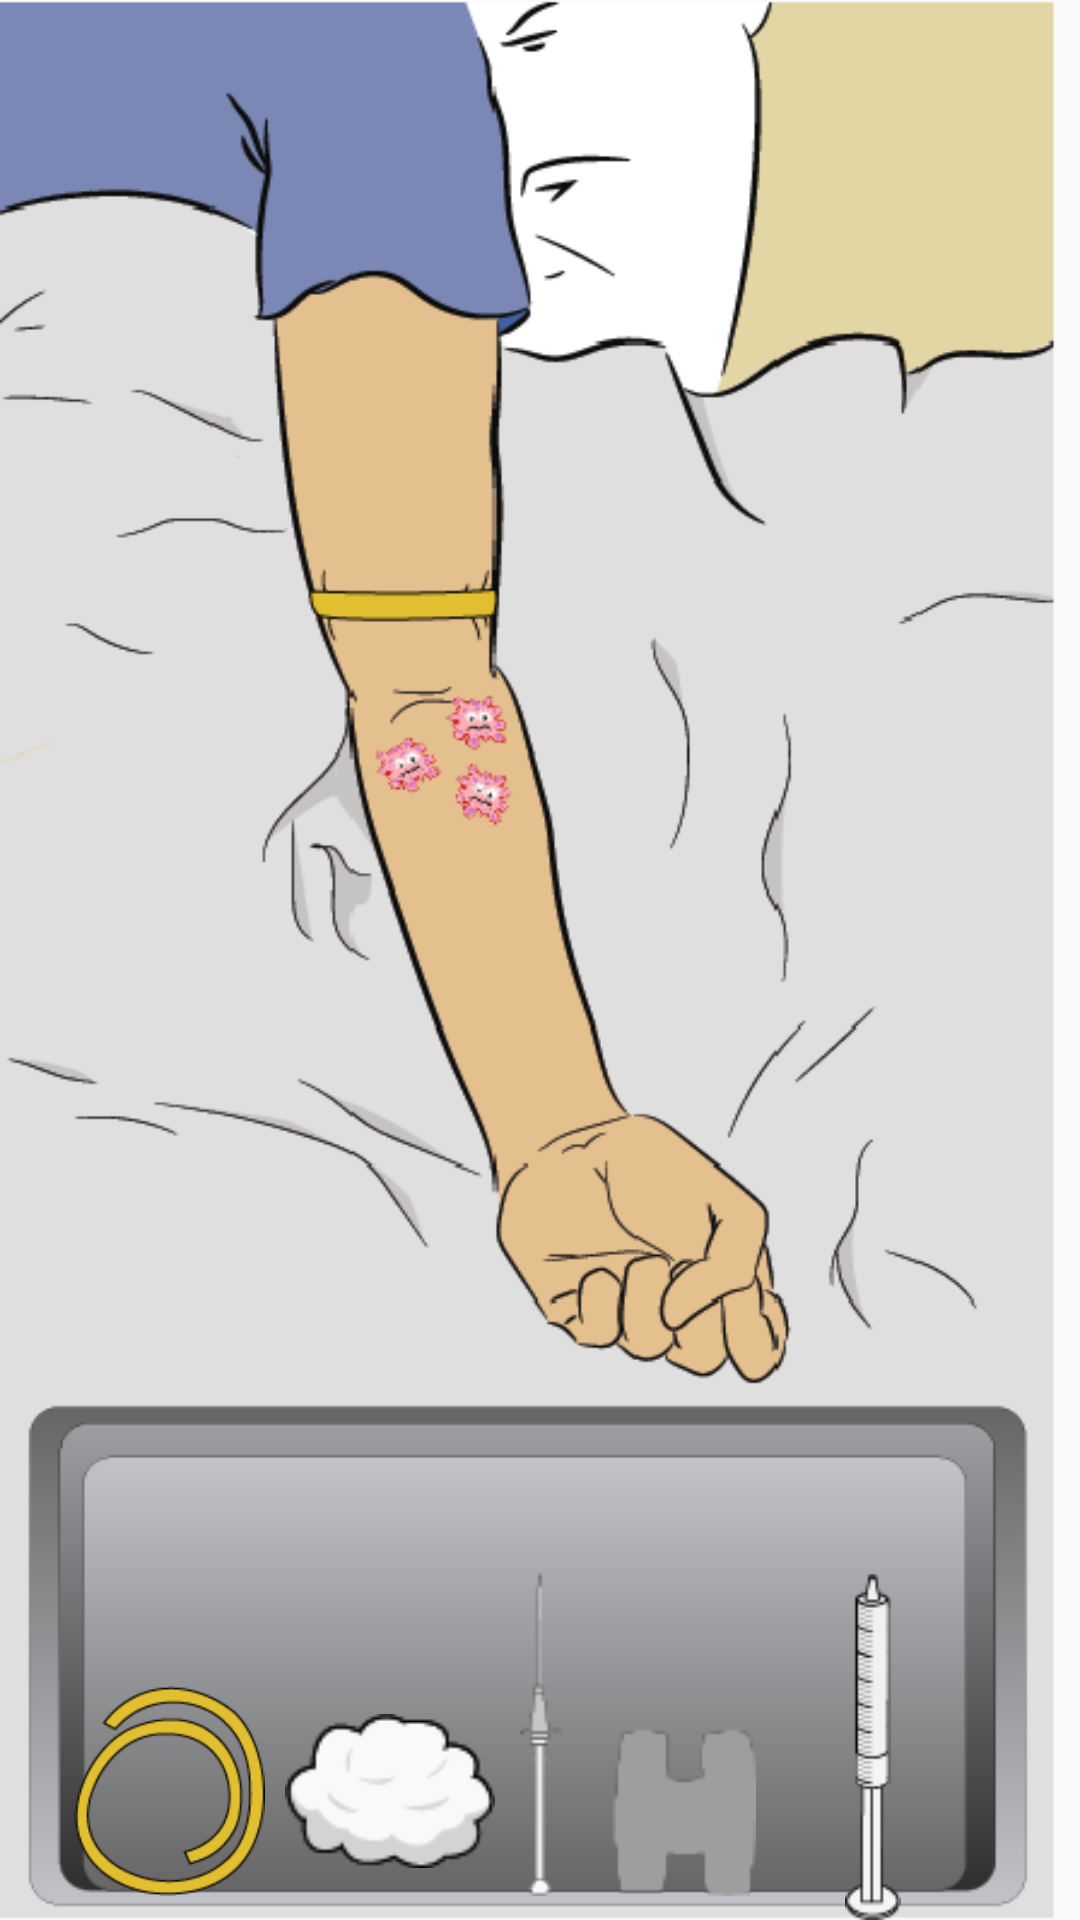

Screen size 1080×1920. Icon name, then its center in pixels as [x,y]:
algodao: [390,1791]
cateter: [540,1734]
garrote: [169,1791]
seringa: [873,1746]
